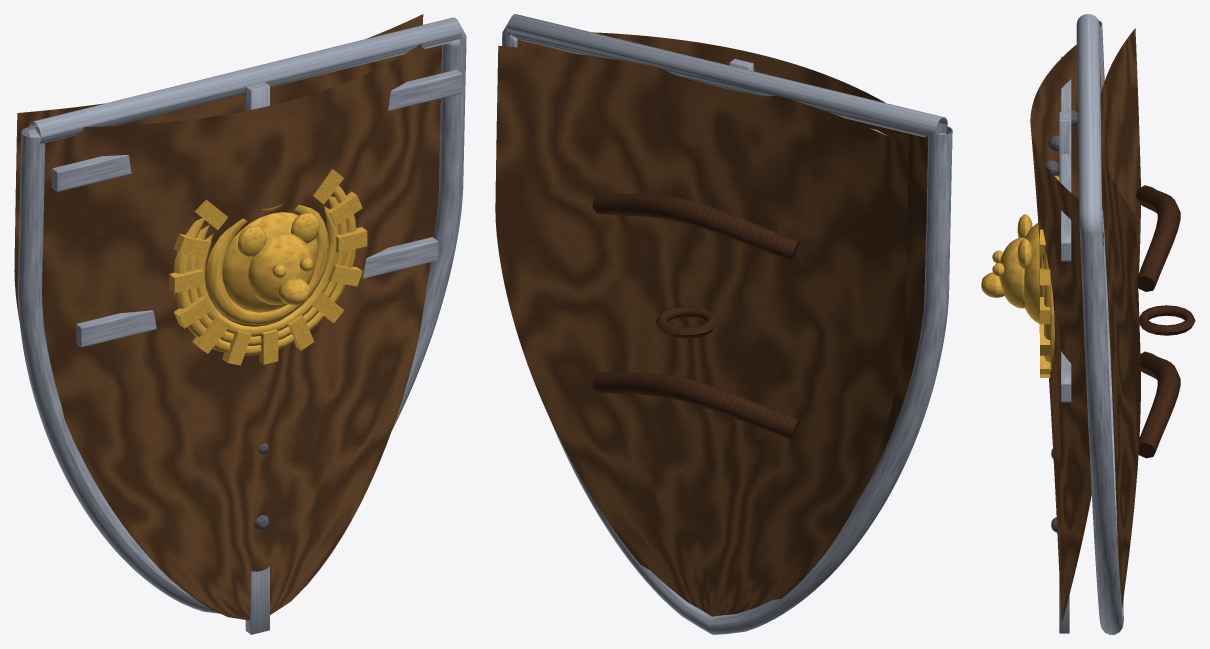
The model's file is wpn_royal_crest_heater_shield.glb.
3 views of the same model, side by side, from view 1: azimuth 30°, elevation 25°; view 2: azimuth 150°, elevation 25°; view 3: azimuth 270°, elevation 25° (orthographic). The views are drawn at different scales.
Visible parts, largest first — view 1: oak_face_and_back, steel_rim, lion_mane, steel_bands, crest_boss, lion_face; view 2: oak_face_and_back, steel_rim, arm_straps; view 3: oak_face_and_back, steel_rim, arm_straps, steel_bands, lion_face, lion_mane, crest_boss, rivets.
Boxes of the visible parts, x1,y1,x2,y2 form: oak_face_and_back: (14,14,441,620); steel_rim: (18,17,466,613); lion_mane: (169,169,367,365); steel_bands: (52,69,461,634); crest_boss: (205,205,329,325); lion_face: (238,212,319,305); oak_face_and_back: (495,32,928,616); steel_rim: (502,14,952,634); arm_straps: (592,193,799,439); oak_face_and_back: (1030,28,1140,621); steel_rim: (1076,14,1123,634); arm_straps: (1135,185,1195,458); steel_bands: (1059,56,1071,633); lion_face: (981,214,1032,308); lion_mane: (1040,175,1056,377); crest_boss: (1024,223,1043,333); rivets: (1045,86,1103,532).
Size of the model in its own units: 0.9165 by 1.09 by 0.4085.
Materials: 5 (5 with a texture image).
